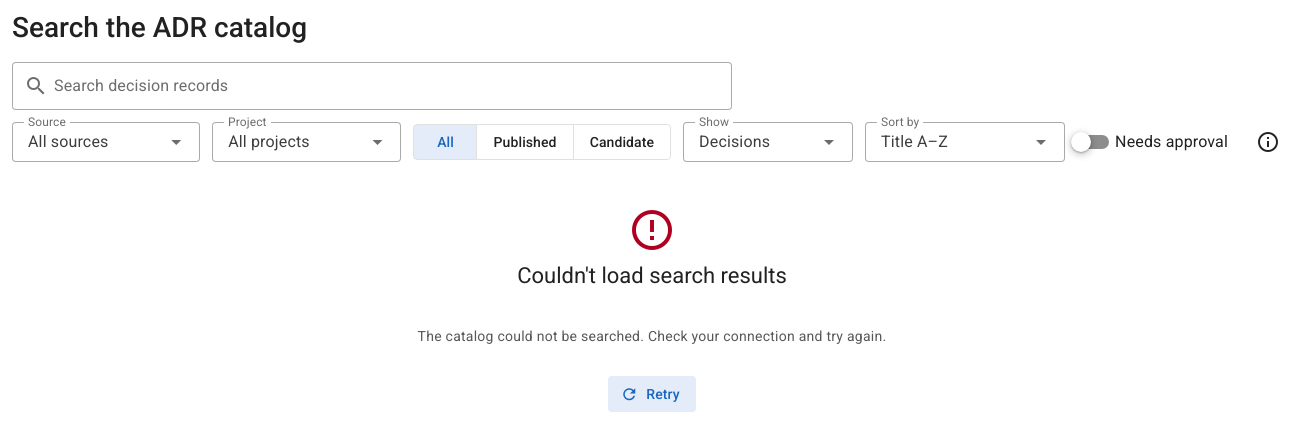
Test: SearchView › shows an error state and retries the same request on demand
Click the button "Retry" at x=652, y=394, box [608, 376, 696, 412]
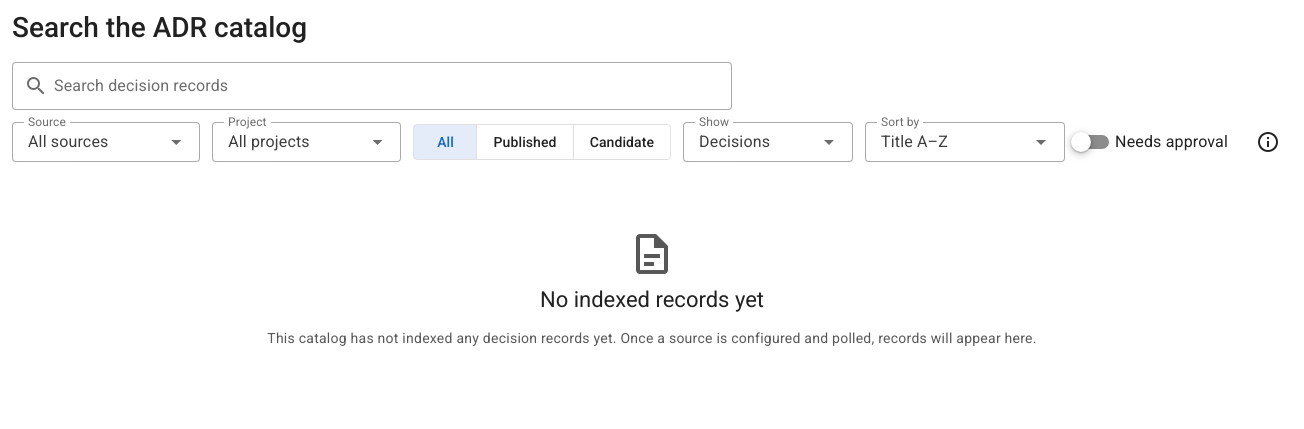
Expected: the text "No indexed records yet" is shown, [540, 286, 764, 314]
